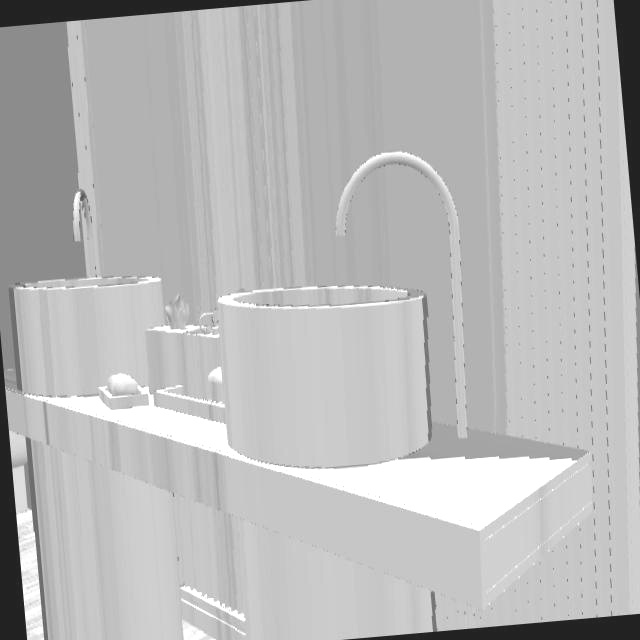shelf: (3, 372, 592, 607)
washbasin: (219, 285, 430, 467), (336, 151, 466, 437), (9, 276, 164, 397), (74, 189, 99, 274)
